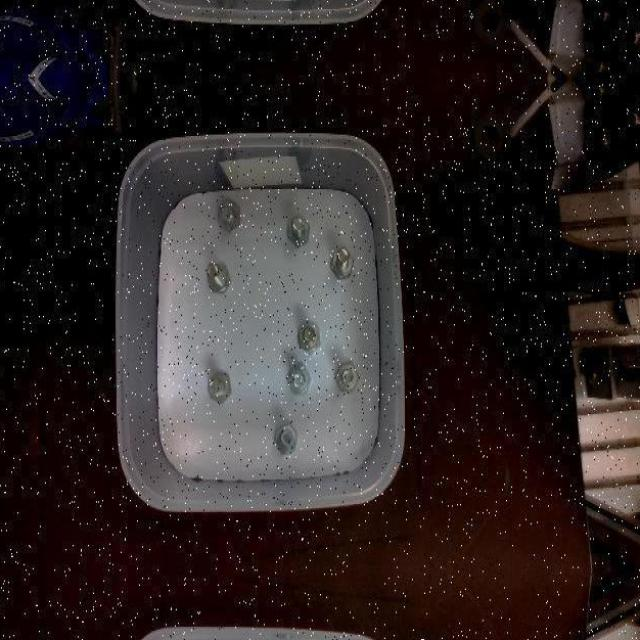screw: (275, 422, 300, 456), (219, 197, 241, 233), (209, 371, 233, 404), (298, 319, 321, 353), (287, 363, 312, 394), (330, 246, 353, 279), (335, 361, 360, 391), (208, 262, 232, 293), (287, 214, 310, 246)
